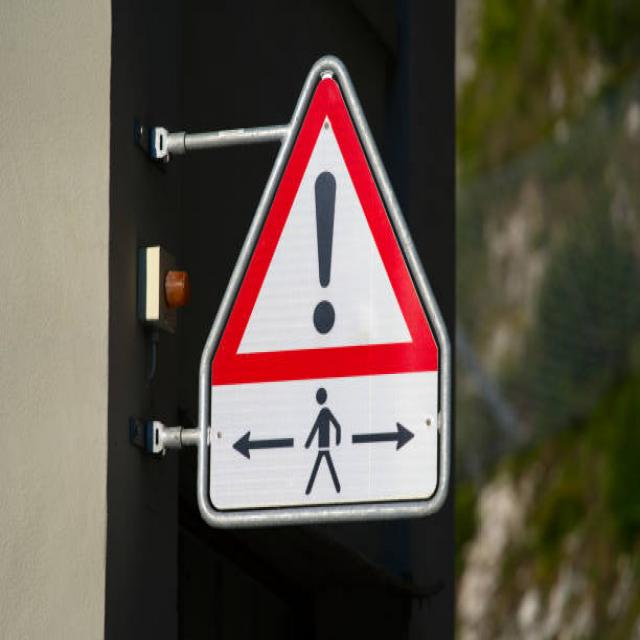warning: (216, 74, 446, 390)
